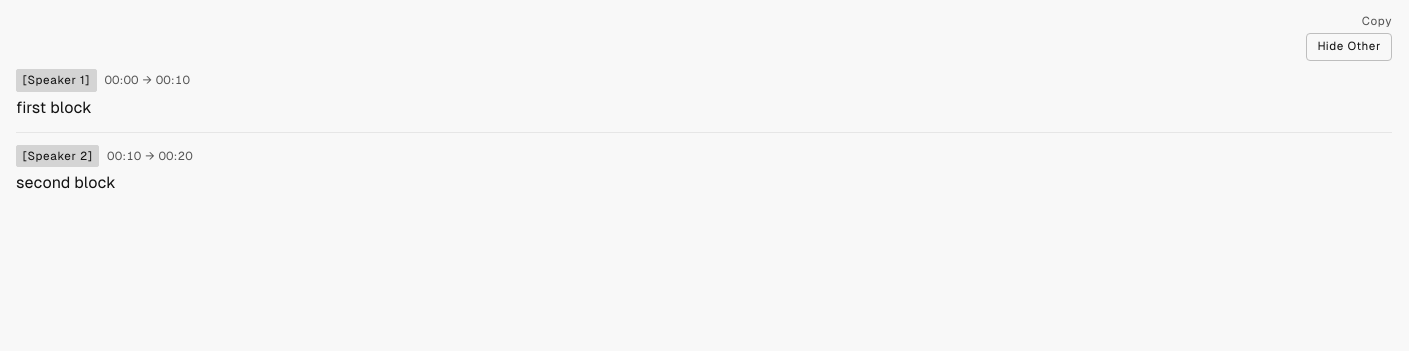
Test: TranscriptPanel speaker relabeling › picking a name asks for this-turn vs all-turns scope before renaming
The image size is (1409, 351).
Check: the text "first block" is shown, box top-left (16, 98), bottom-right (92, 117)
Click the button "[Speaker 2]".
click(58, 156)  # box top-left (16, 145), bottom-right (99, 167)
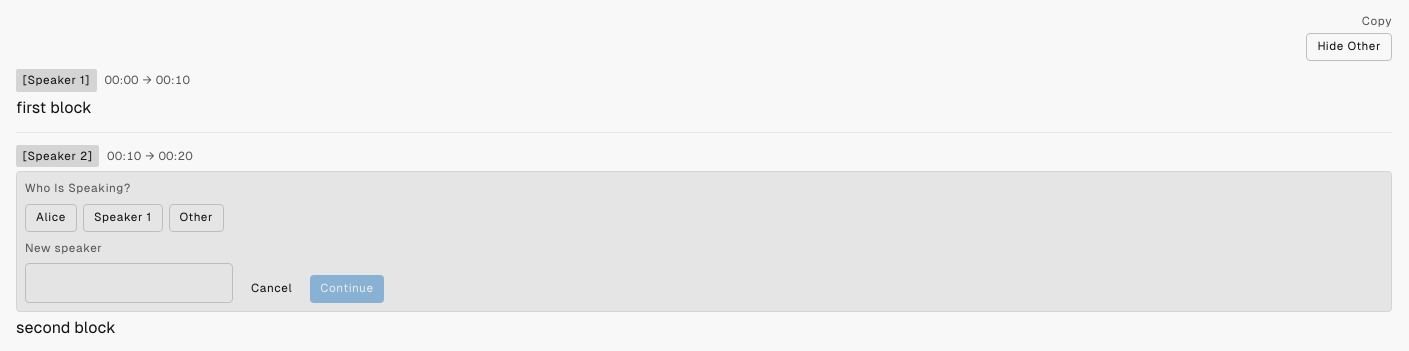
Click the button "Alice".
click(51, 218)  # box top-left (25, 204), bottom-right (77, 232)
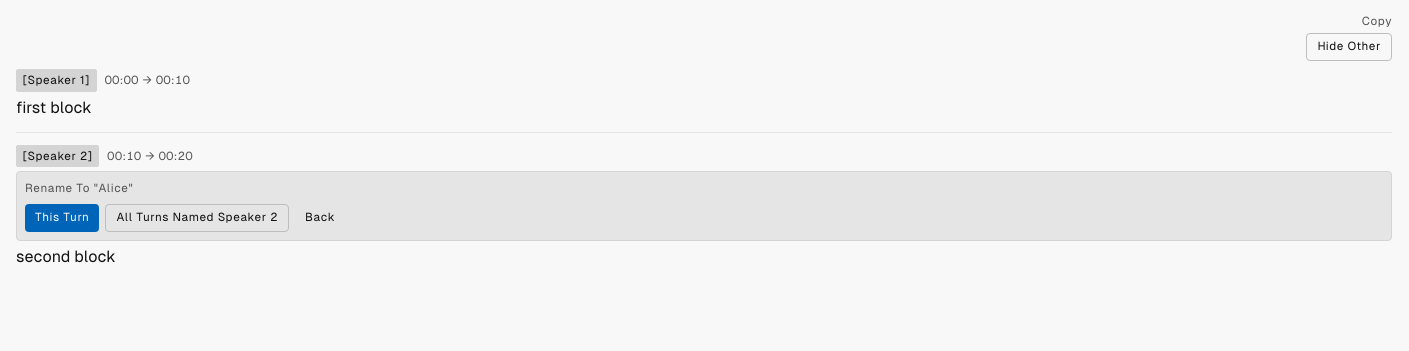
Check: the text "Rename to \"Alice\"" is shown, box top-left (25, 181), bottom-right (133, 195)
Check: the button "This turn" is shown, box top-left (25, 204), bottom-right (100, 232)
Check: the button "All turns named Speaker 2" is shown, box top-left (106, 204), bottom-right (289, 232)
